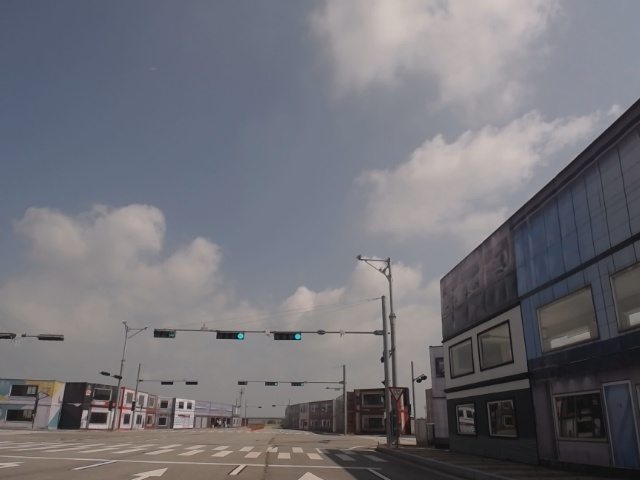straight_green_4: (273, 332, 303, 340), (216, 331, 243, 339)
